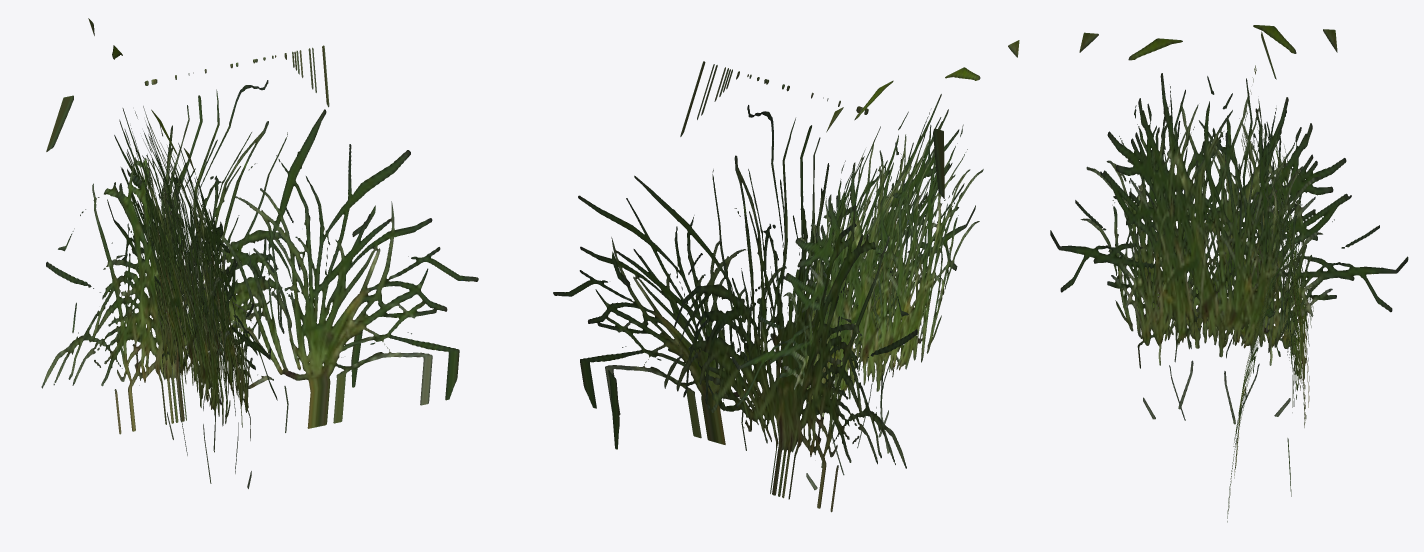
Rendered from meadow_grass_002_a_LOD2.gltf.
3 views of the same model, side by side, from view 1: azimuth 30°, elevation 25°; view 2: azimuth 150°, elevation 25°; view 3: azimuth 270°, elevation 25° (orthographic). The views are drawn at different scales.
Visible parts, largest first — view 1: meadow_grass_002_a_LOD2; view 2: meadow_grass_002_a_LOD2; view 3: meadow_grass_002_a_LOD2.
Boxes of the visible parts, x1,y1,x2,y2 form: meadow_grass_002_a_LOD2: [41, 18, 478, 488]; meadow_grass_002_a_LOD2: [553, 40, 1019, 512]; meadow_grass_002_a_LOD2: [1050, 25, 1408, 522].
Size of the model in its own units: 0.9097 by 0.8265 by 0.744.
Materials: 1 (1 with a texture image).
